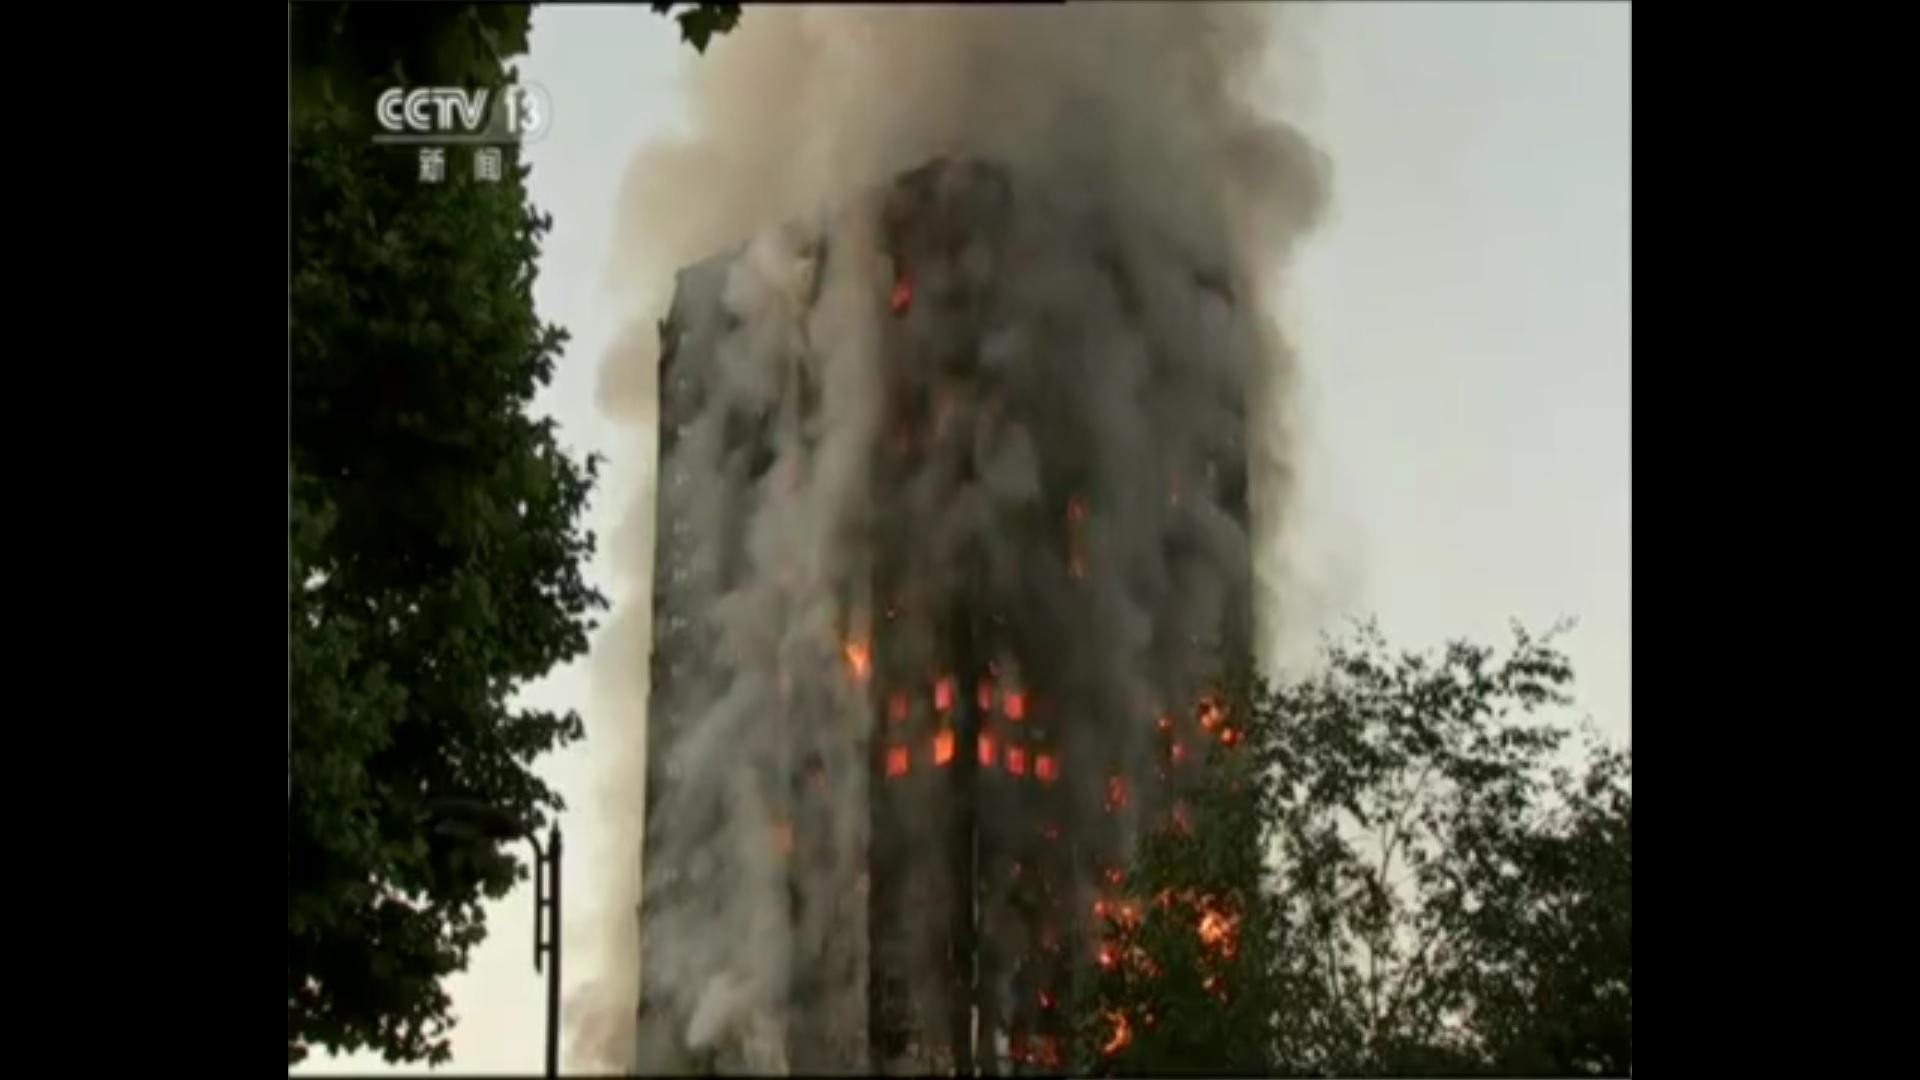fire: (1081, 873, 1241, 1042), (868, 663, 1054, 775), (1155, 690, 1244, 757)
